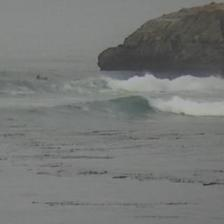surfer: (36, 74, 48, 80)
